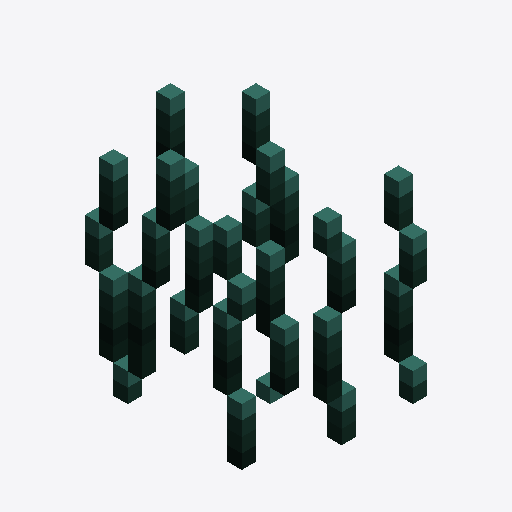
Isometric view (azimuth 45°, elevation 35.3°) of a Minecraft model made of 32 cuboids, textured from the same repository.
Visible parts, largest first — cube (×29).
Part boxes in pixels (left/top/right/bottom): cube (×29): left=85, top=83, right=426, bottom=469.
Bounding box in the file's own units: 11 × 16 × 13.